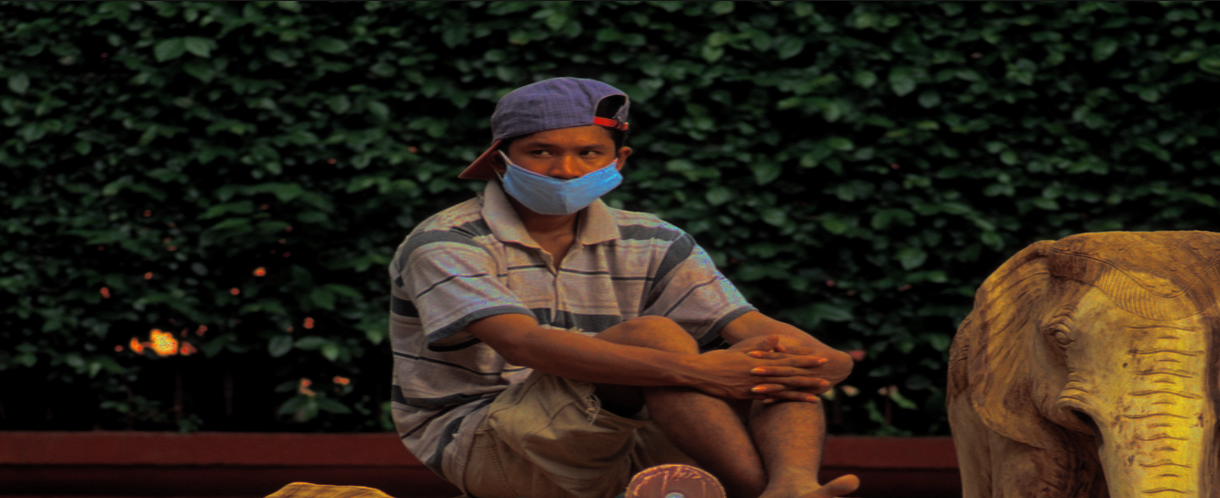mask_weared_incorrect: (467, 75, 638, 227)
